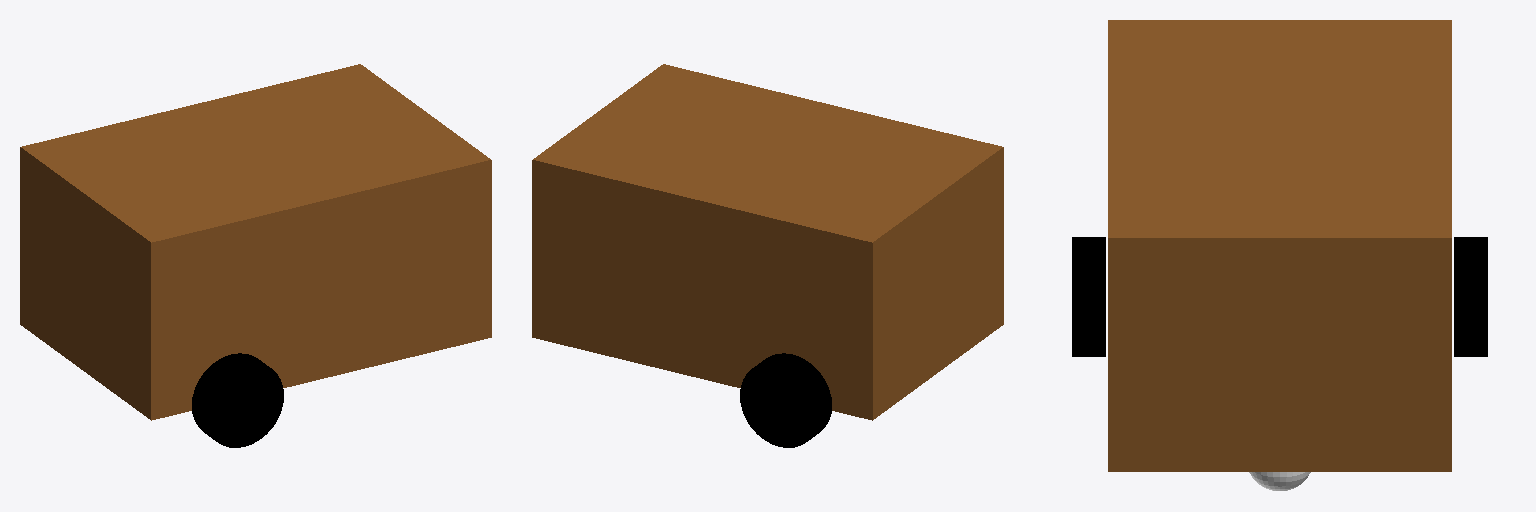
URDF robot description (my_robot):
<?xml version="1.0"?>
<robot name="my_robot">

  <!-- Base of the robot -->
  <link name="base_link">
    <visual>
      <origin xyz="0 0 0.105"/>
      <geometry>
        <box size="0.30 0.20 0.15"/>
      </geometry>
      <material name="wood">
        <color rgba="0.6 0.4 0.2 1.0"/>
      </material>
    </visual>
    <collision>
      <origin xyz="0 0 0.105"/>
      <geometry>
        <box size="0.30 0.20 0.15"/>
      </geometry>
    </collision>
    <inertial>
      <origin xyz="0 0 0" rpy="0 0 0"/>
      <mass value="0.25"/>
      <inertia ixx="0.00027539" ixy="0" ixz="0" iyy="0.00052463" iyz="0" izz="0.00027551"/>
    </inertial>
  </link>

  <!-- Right wheel -->
  <link name="right_wheel">
    <visual>
      <origin xyz="0 0 0" rpy="0 0 0"/>
      <geometry>
        <cylinder radius="0.035" length="0.02"/>
      </geometry>
      <material name="black">
        <color rgba="0 0 0 1.0"/>
      </material>
    </visual>
    <collision>
      <origin xyz="0 0 0" rpy="0 0 0"/>
      <geometry>
        <cylinder radius="0.035" length="0.02"/>
      </geometry>
    </collision>
    <inertial>
      <origin xyz="0 0 0" rpy="0 0 0"/>
      <mass value="0.1"/> <!-- Setze die Masse des Rades -->
      <inertia ixx="0.0001" ixy="0" ixz="0" iyy="0.0001" iyz="0" izz="0.0001"/> <!-- Schätze die Trägheitswerte -->
    </inertial>
  </link>

  <!-- Left wheel -->
  <link name="left_wheel">
    <visual>
      <origin xyz="0 0 0" rpy="0 0 0"/>
      <geometry>
        <cylinder radius="0.035" length="0.02"/>
      </geometry>
      <material name="black">
        <color rgba="0 0 0 1.0"/>
      </material>
    </visual>
    <collision>
      <origin xyz="0 0 0" rpy="0 0 0"/>
      <geometry>
        <cylinder radius="0.035" length="0.02"/>
      </geometry>
    </collision>
    <inertial>
      <origin xyz="0 0 0" rpy="0 0 0"/>
      <mass value="0.1"/> <!-- Setze die Masse des Rades -->
      <inertia ixx="0.0001" ixy="0" ixz="0" iyy="0.0001" iyz="0" izz="0.0001"/> <!-- Schätze die Trägheitswerte -->
    </inertial>
  </link>

  <!-- Front ball -->
  <link name="front_ball">
    <visual>
      <origin xyz="0 0 0"/>
      <geometry>
        <sphere radius="0.02"/>
      </geometry>
      <material name="white">
        <color rgba="1 1 1 1.0"/>
      </material>
    </visual>
    <collision>
      <origin xyz="0 0 0"/>
      <geometry>
        <sphere radius="0.02"/>
      </geometry>
    </collision>
    <inertial>
      <origin xyz="0 0 0" rpy="0 0 0"/>
      <mass value="0.05"/> <!-- Setze die Masse der Kugel -->
      <inertia ixx="0.00005" ixy="0" ixz="0" iyy="0.00005" iyz="0" izz="0.00005"/> <!-- Schätze die Trägheitswerte -->
    </inertial>
  </link>

  <!-- Joints -->
  <joint name="right_wheel_joint" type="continuous">
    <parent link="base_link"/>
    <child link="right_wheel"/>
    <origin xyz="-0.08 -0.111 0.035" rpy="1.5708 0 0"/>
    <axis xyz="0 0 -1"/>
  </joint>

  <joint name="left_wheel_joint" type="continuous">
    <parent link="base_link"/>
    <child link="left_wheel"/>
    <origin xyz="-0.08 0.111 0.035" rpy="1.5708 0 0"/>
    <axis xyz="0 0 -1"/>
  </joint>

  <joint name="front_ball_joint" type="fixed">
    <parent link="base_link"/>
    <child link="front_ball"/>
    <origin xyz="0.08 0 0.007" rpy="0 0 0"/>
  </joint>

  <!-- Gazebo joint_state_publisher plugin -->
  <gazebo>
    <plugin filename="gz-sim-joint-state-publisher-system" name="gz::sim::systems::JointStatePublisher">
      <joint_name>right_wheel_joint</joint_name>
      <joint_name>left_wheel_joint</joint_name>
      <joint_name>front_ball_joint</joint_name>
      <topic>joint_states</topic>
      <update_rate>30</update_rate>
    </plugin>
  </gazebo>

  <gazebo>
    <plugin filename="gz-sim-diff-drive-system" name="gz::sim::systems::DiffDrive">
      <!-- Definieren der Gelenke für die beiden Räder -->
      <left_joint>left_wheel_joint</left_joint>
      <right_joint>right_wheel_joint</right_joint>


      <!-- Anpassung der Radtrennung und des Radradius auf die Robotergröße -->
      <wheel_separation>0.20</wheel_separation> <!-- Abstand zwischen den Rädern (Breite des Roboters) -->
      <wheel_radius>0.035</wheel_radius> <!-- Radius der Räder (Durchmesser = 0.07m) -->

      <!-- Maximale und minimale Beschleunigungen und Geschwindigkeiten -->
      <max_linear_acceleration>2</max_linear_acceleration>
      <min_linear_acceleration>-2</min_linear_acceleration>
      <max_angular_acceleration>3</max_angular_acceleration>
      <min_angular_acceleration>-3</min_angular_acceleration>

      <max_linear_velocity>0.5</max_linear_velocity>
      <min_linear_velocity>-0.5</min_linear_velocity>
      <max_angular_velocity>0.75</max_angular_velocity>
      <min_angular_velocity>-0.75</min_angular_velocity>

      <!-- Definieren der Steuerungs- und Odometrie-Themen -->
      <topic>/cmd_vel</topic>
      <odom_topic>/odom</odom_topic>
      <tf_topic>tf</tf_topic>

      <!-- Definition des Rahmens für Odometrie -->
      <frame_id>odom</frame_id>
      <child_frame_id>base_link</child_frame_id>

      <!-- Häufigkeit der Odometrie-Publikation -->
      <odom_publish_frequency>30</odom_publish_frequency>
    </plugin>
  </gazebo>

  <!-- Gazebo plugin to preserve front_ball_joint -->
  <gazebo reference="front_ball_joint">
    <preserveFixedJoint>true</preserveFixedJoint>
  </gazebo>

</robot>

--- Render facts (derived) ---
3 views of the same robot in one strip: view 1: azimuth 30°, elevation 25°; view 2: azimuth 150°, elevation 25°; view 3: azimuth 270°, elevation 25° (orthographic).
Model my_robot with 4 links and 3 joints (2 continuous, 1 fixed), rooted at base_link, posed every joint at zero.
Visible links, largest first — view 1: base_link, right_wheel; view 2: base_link, left_wheel; view 3: base_link, right_wheel, left_wheel, front_ball.
Link boxes in pixels (box(x1,y1,x2,y2)): base_link: box(20, 64, 491, 420); right_wheel: box(192, 353, 283, 447); base_link: box(532, 64, 1003, 420); left_wheel: box(740, 353, 831, 447); base_link: box(1108, 20, 1451, 471); right_wheel: box(1072, 237, 1105, 356); left_wheel: box(1454, 237, 1487, 356); front_ball: box(1249, 472, 1310, 490).
Bounding box of the posed robot: 0.3 × 0.242 × 0.193 m (x, y, z).
Geometry: primitives only (box / cylinder / sphere), no mesh files.